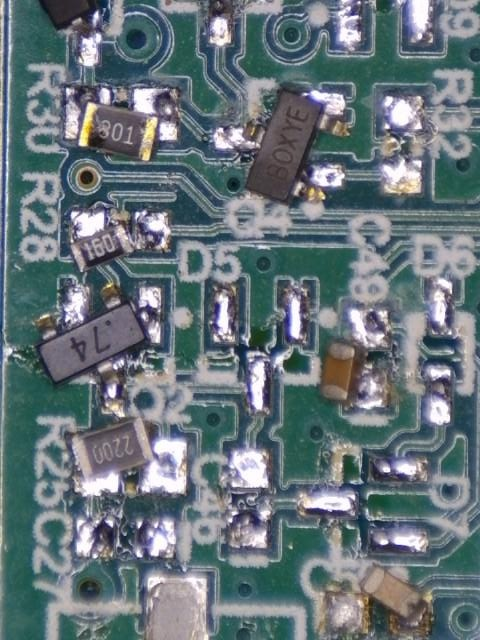pcb_defect: (32, 283, 162, 416), (214, 88, 349, 206), (69, 416, 188, 497), (63, 84, 181, 162), (316, 564, 428, 637), (319, 307, 391, 410), (69, 207, 171, 274), (37, 0, 104, 66)
